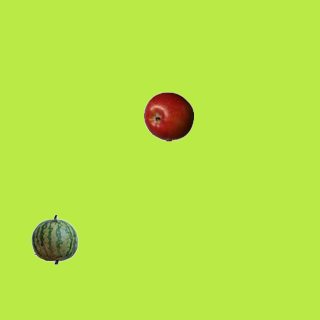Apple Braeburn: (143, 91, 193, 141)
Watermelon: (29, 214, 79, 264)
